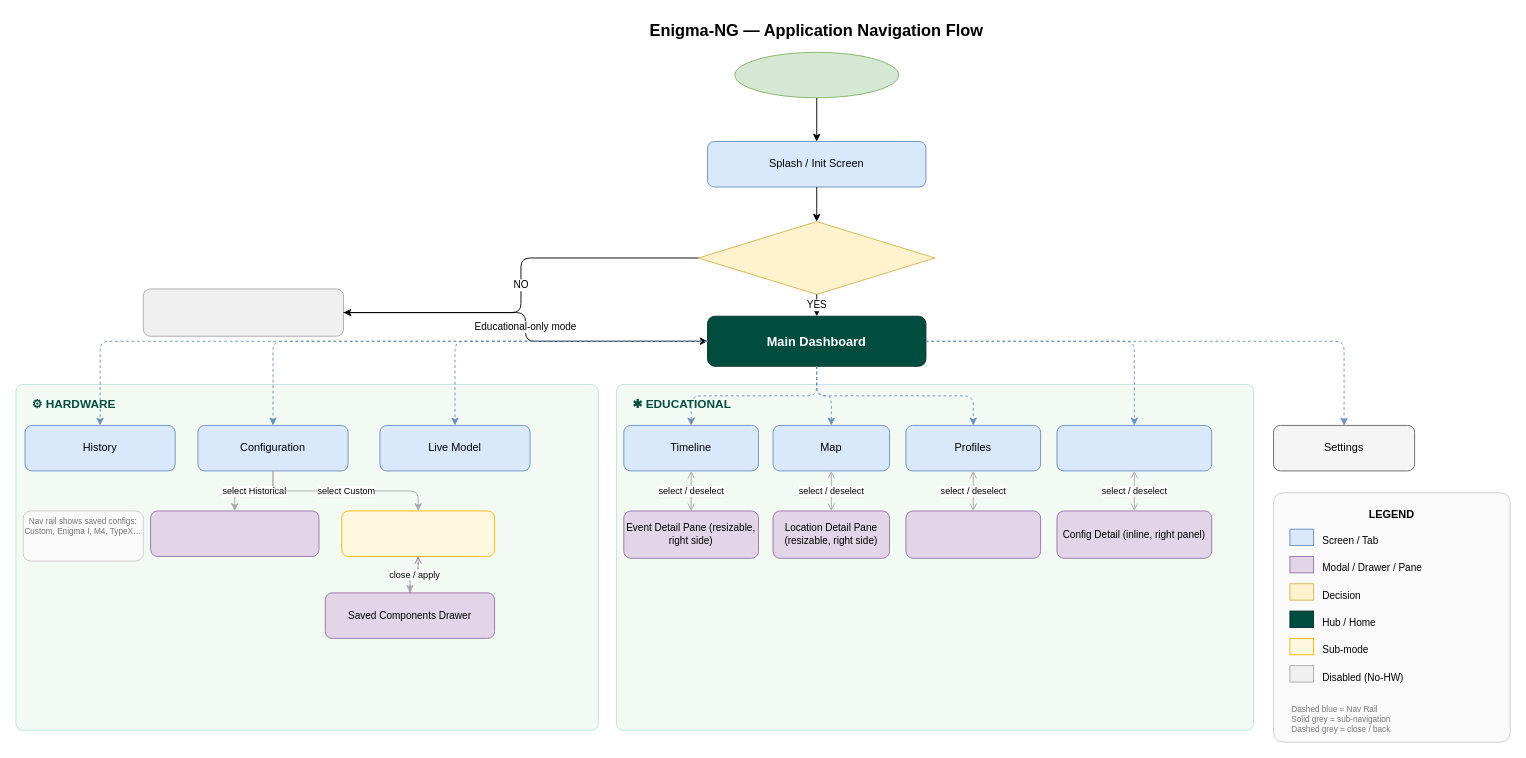
This 1526x758 diagram has some shape labels left out. The shapes that lost their labels are listed below. From the top down, each one's centre as x and y in pixels, then its label:
the point at 816,74: App Launch
the point at 816,257: Hardware Detected?
the point at 243,312: No Hardware Mode (Educational Only)
the point at 1134,448: Configurations
the point at 234,533: Historical Mode (Read-Only)
the point at 418,533: Custom Mode
the point at 973,534: Profile Detail (inline, right panel)
